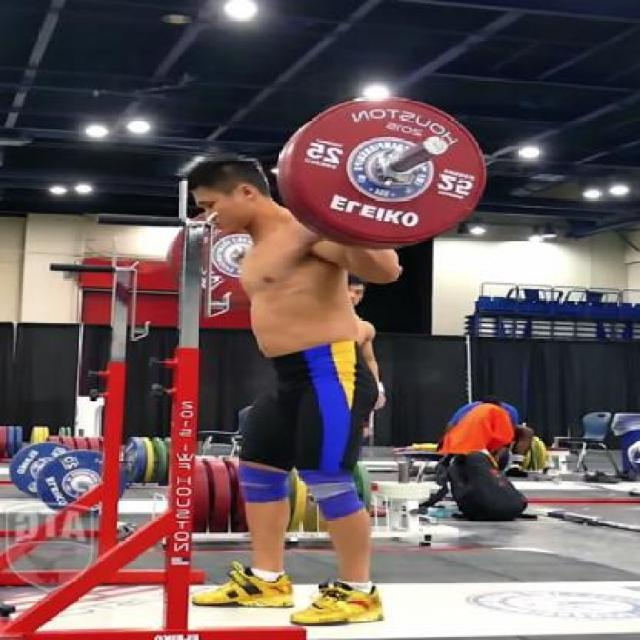Barbell: (418, 130, 452, 158)
